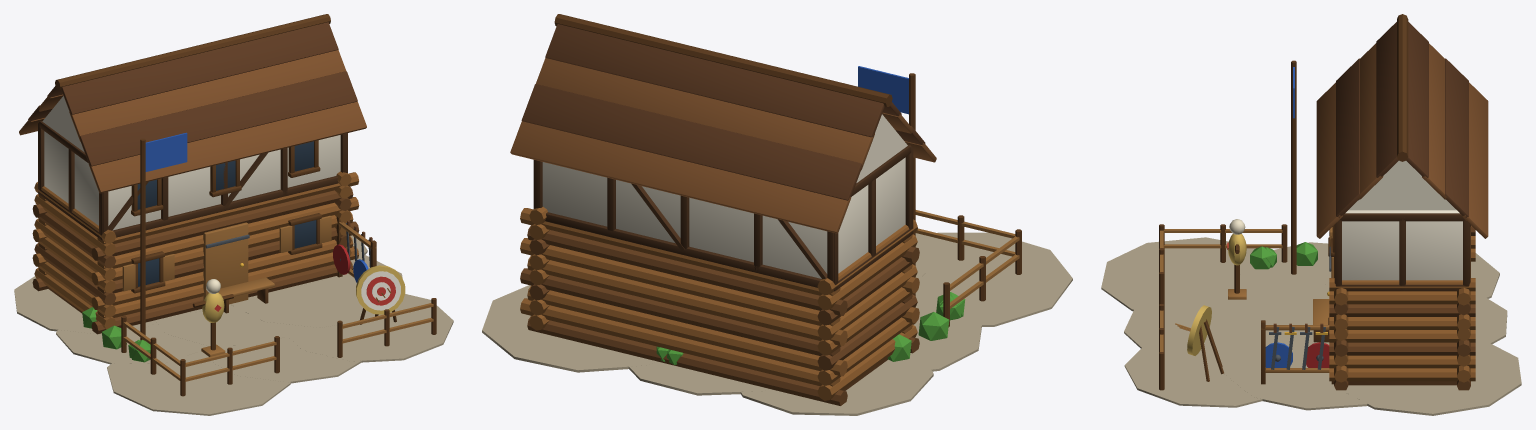
The model's file is koszary_poz08.glb.
3 renders of one model, left to right at view 1: azimuth 30°, elevation 25°; view 2: azimuth 150°, elevation 25°; view 3: azimuth 270°, elevation 25°, orthographic. The views are drawn at different scales.
Parts seen in each view (by area): view 1: koszary_poz08; view 2: koszary_poz08; view 3: koszary_poz08.
Part boxes in pixels (x1,y1,x2,y2): koszary_poz08: (14, 14, 453, 415); koszary_poz08: (482, 14, 1072, 415); koszary_poz08: (1101, 14, 1521, 415).
Bounding box in the file's own units: 8.86 × 5.83 × 8.91.
